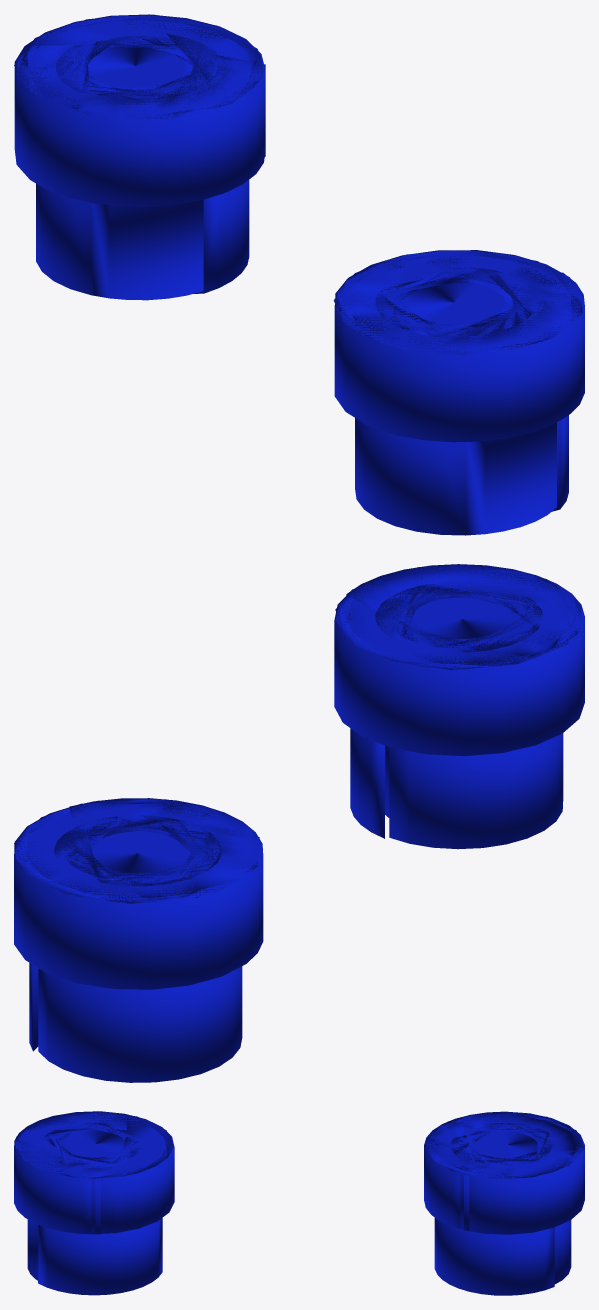
The model's file is tuyeau_element_000092.obj.
3 views of the same model, one above another, from view 1: azimuth 30°, elevation 25°; view 2: azimuth 150°, elevation 25°; view 3: azimuth 270°, elevation 25° (orthographic). The views are drawn at different scales.
Parts seen in each view (by area): view 1: tuyeau1_Cube.014, tuyeau2_Cube.017; view 2: tuyeau2_Cube.017, tuyeau1_Cube.014; view 3: tuyeau1_Cube.014, tuyeau2_Cube.017.
Boxes of the visible parts, bbox=[...] form: tuyeau1_Cube.014: bbox=[14, 14, 265, 300]; tuyeau2_Cube.017: bbox=[333, 250, 584, 535]; tuyeau2_Cube.017: bbox=[334, 564, 584, 849]; tuyeau1_Cube.014: bbox=[14, 798, 263, 1082]; tuyeau1_Cube.014: bbox=[424, 1111, 584, 1295]; tuyeau2_Cube.017: bbox=[14, 1111, 174, 1295].
Bounding box in the file's own units: 3549 × 2917 × 12518.
